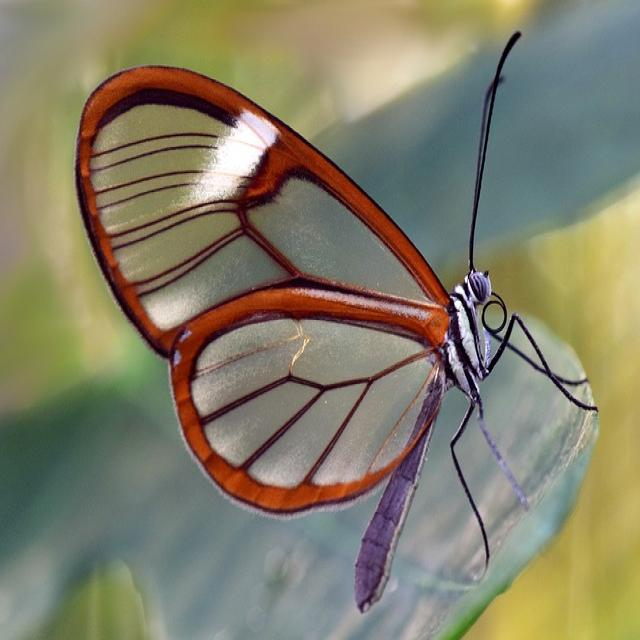butterfly: (76, 66, 489, 609)
